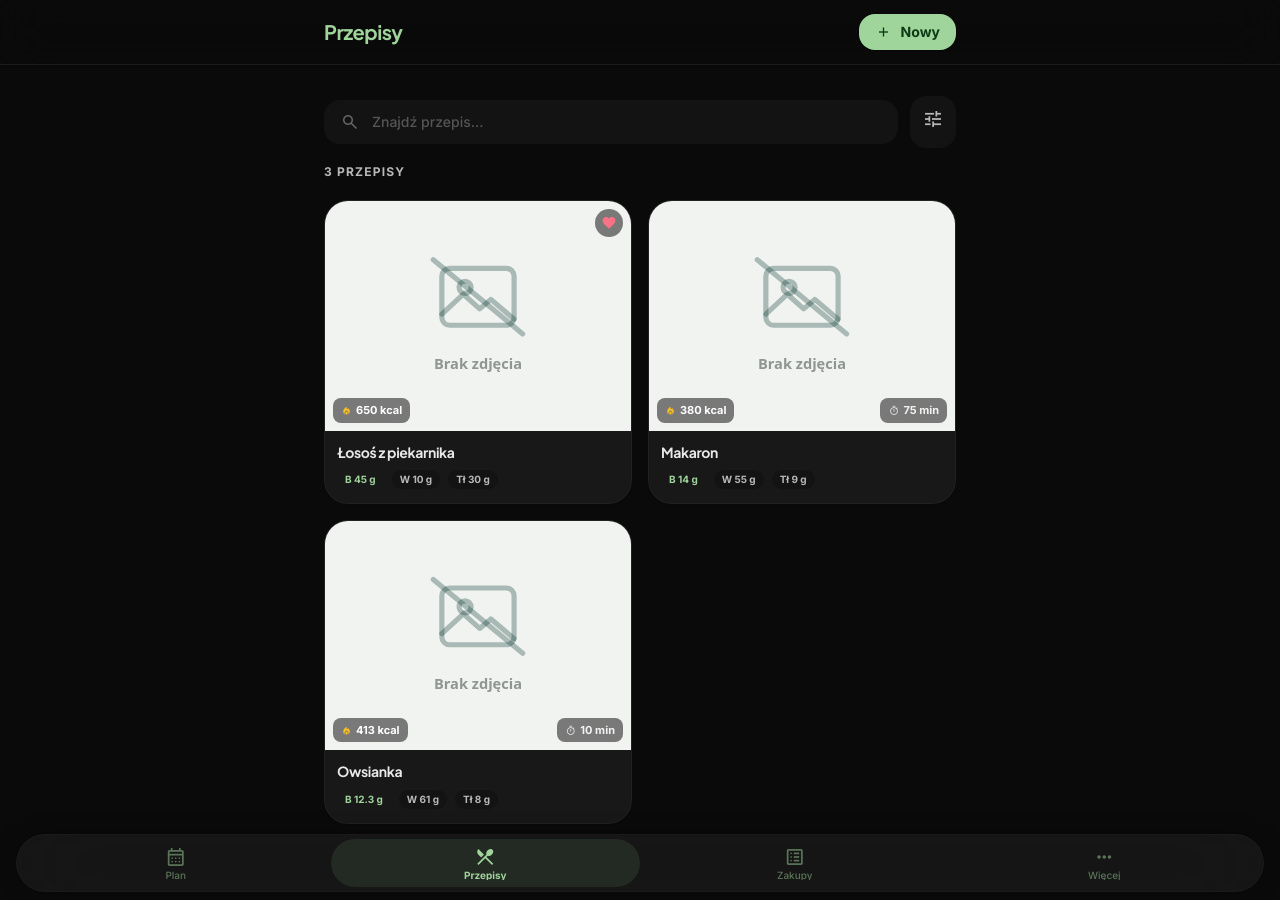
Recipes search and filters › combines quick filters
This screenshot has width=1280, height=900.
Click the button named "Filtry przepisów".
click(933, 122)  # box [910,96,956,148]
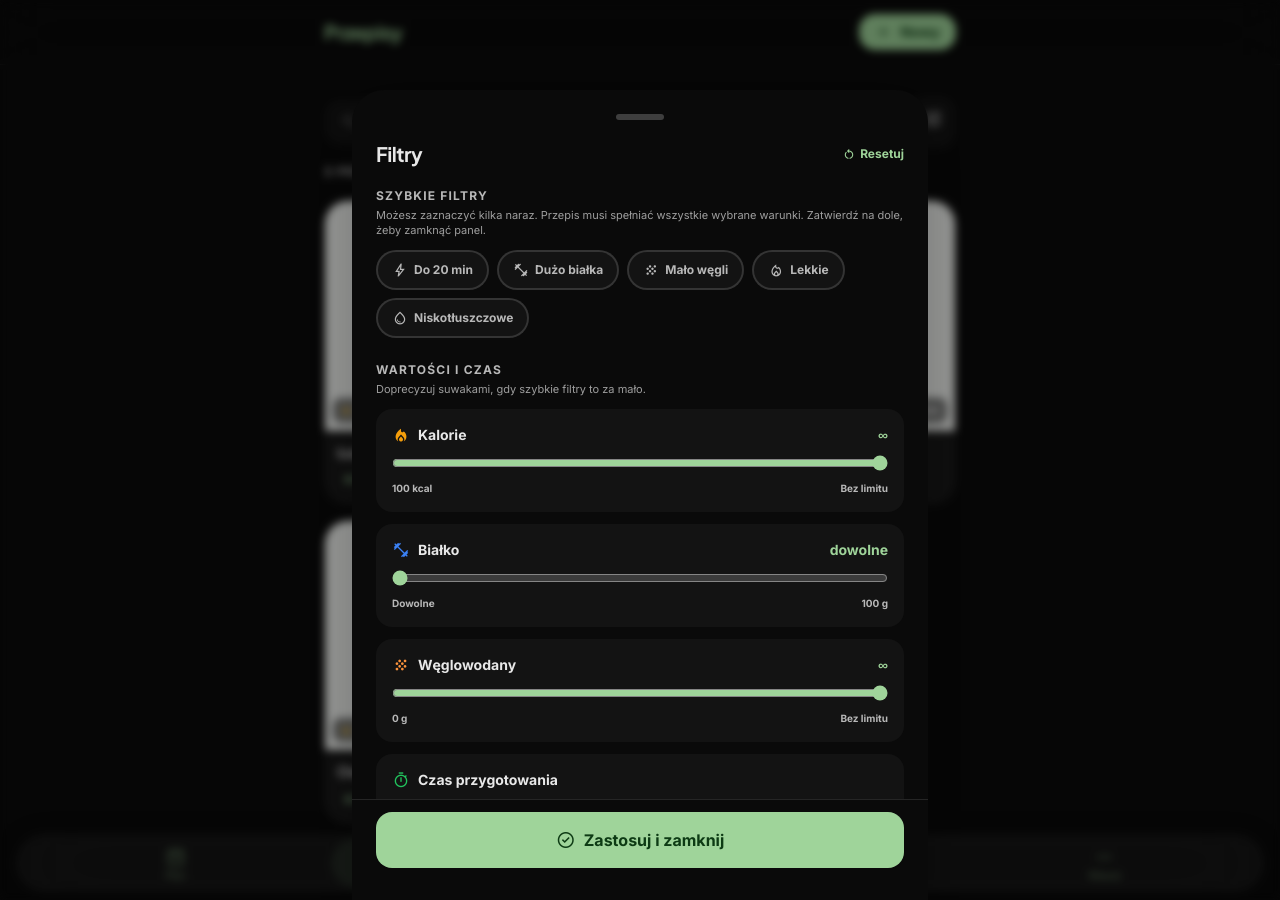
Click the button "Dużo białka".
click(558, 270)  # box [497,250,619,290]
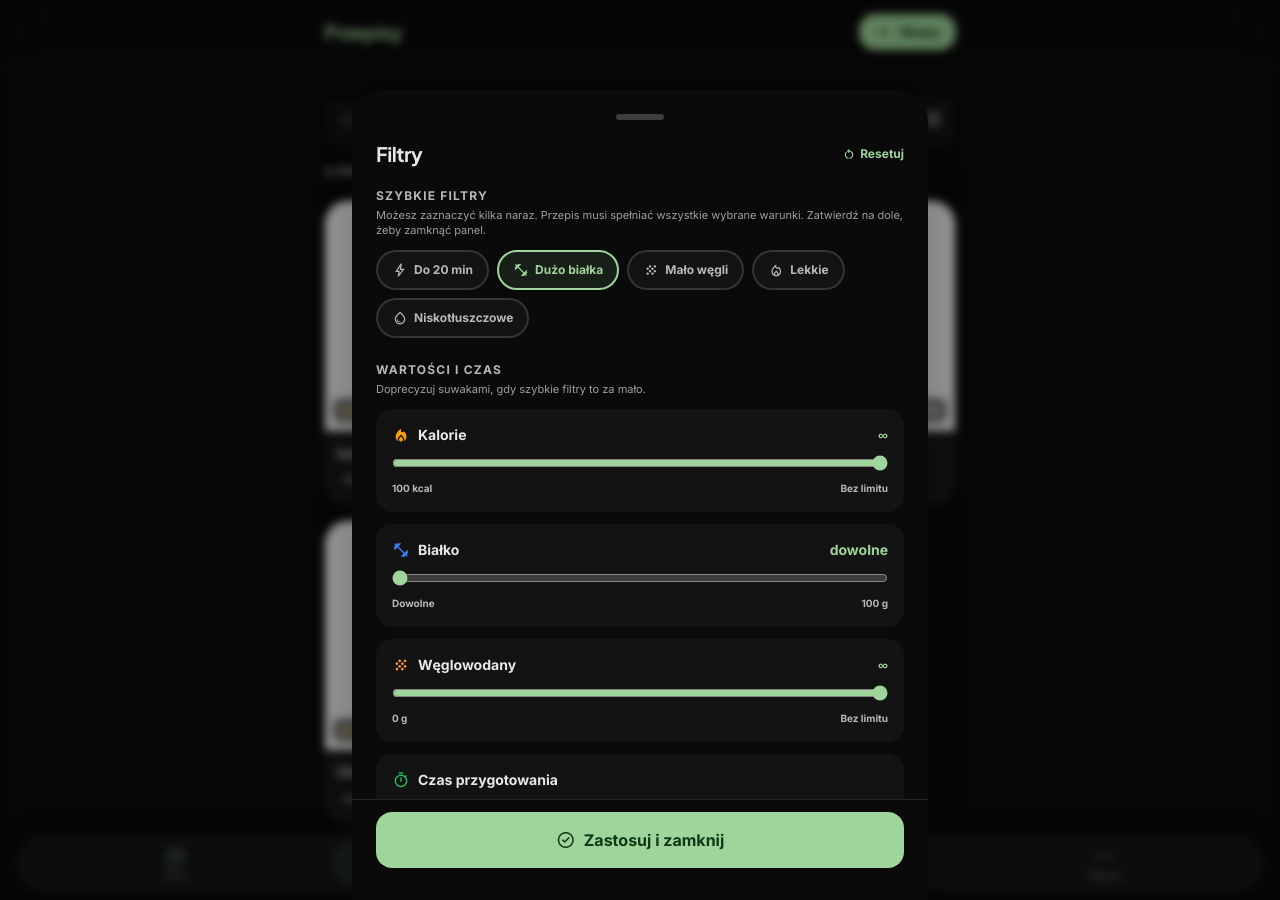
Click the button "Mało węgli".
click(686, 270)  # box [627,250,744,290]
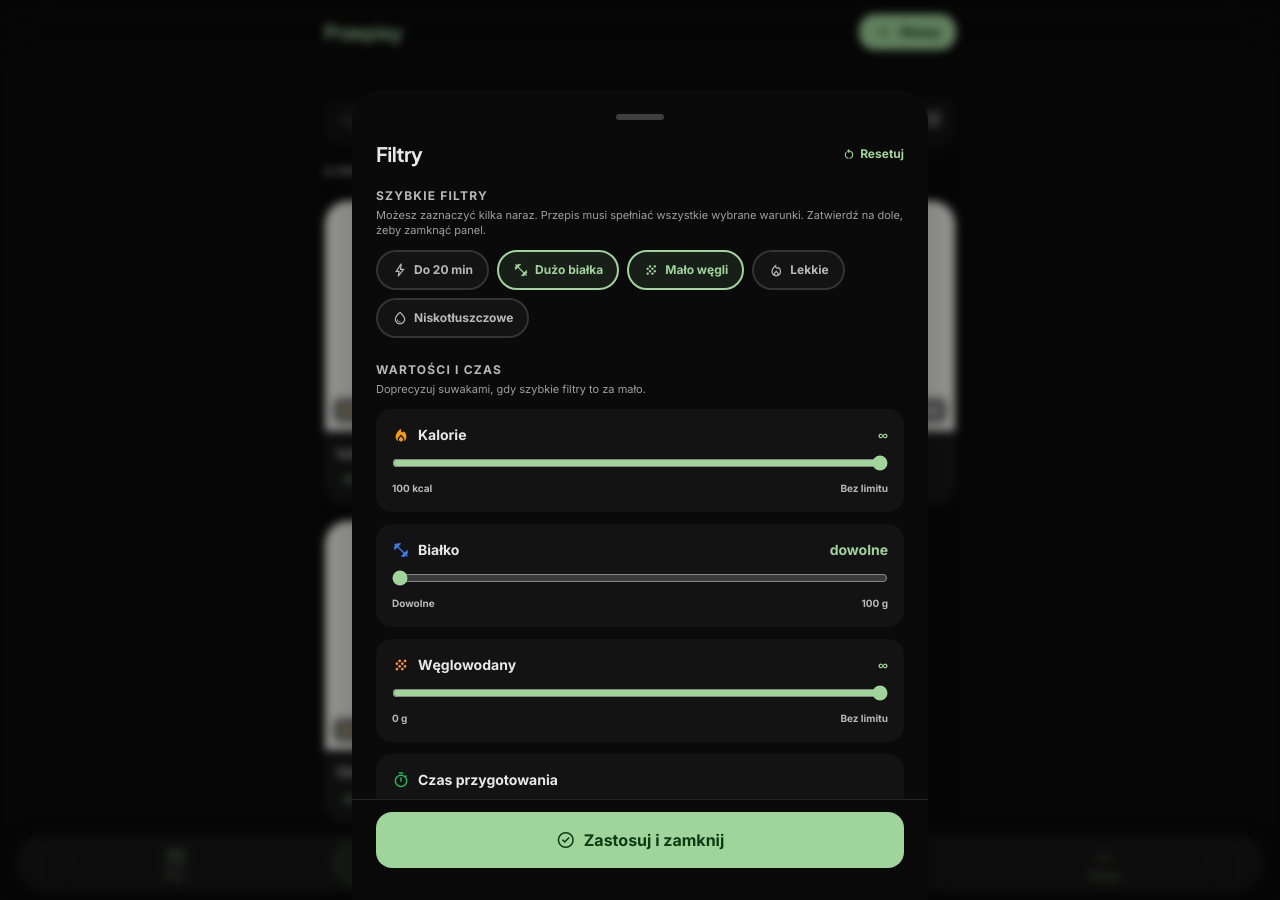
Click the button "Zastosuj i zamknij".
click(640, 840)  # box [376,812,904,868]
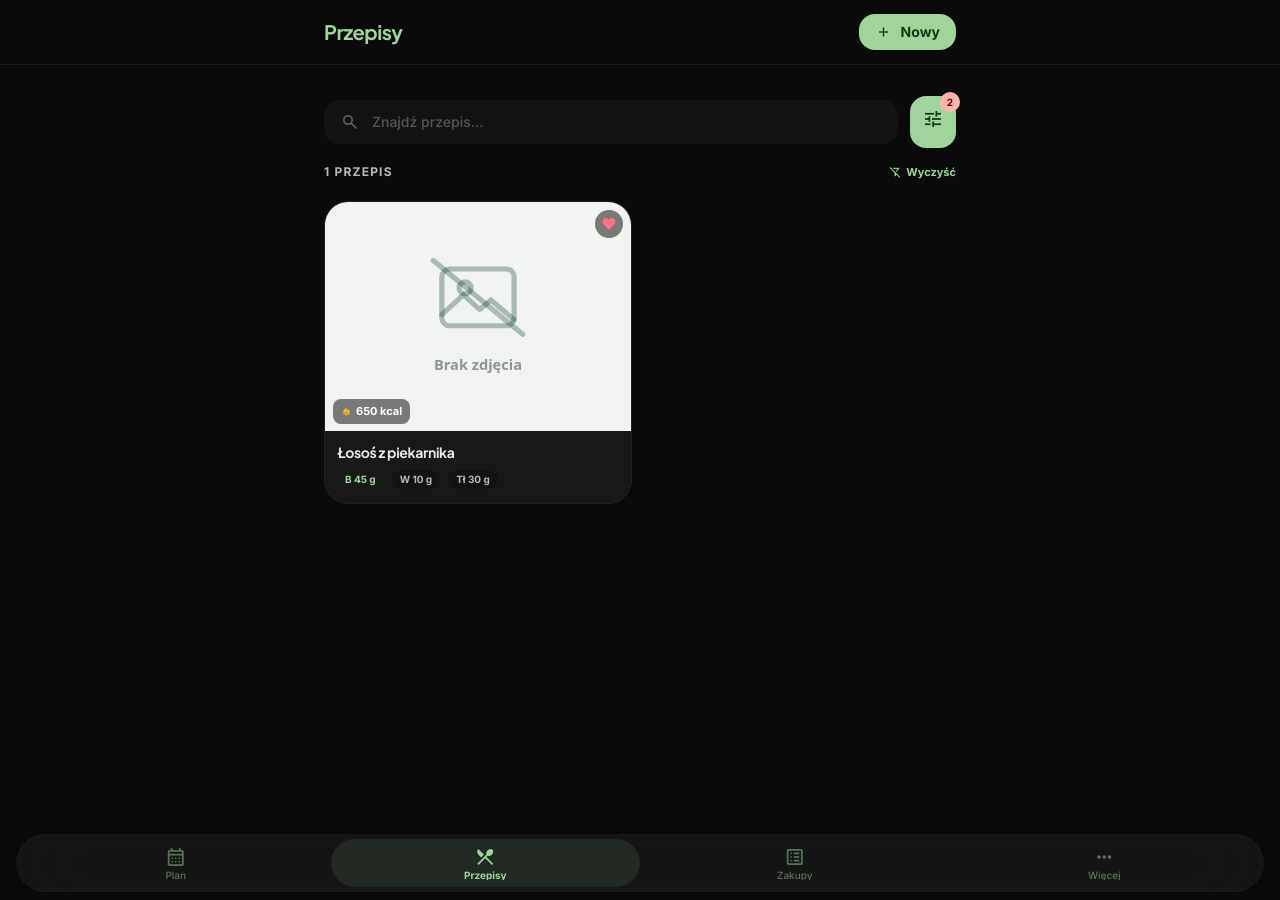
expect the button named "Filtry przepisów" reads "2": met, box [910,96,956,148]
